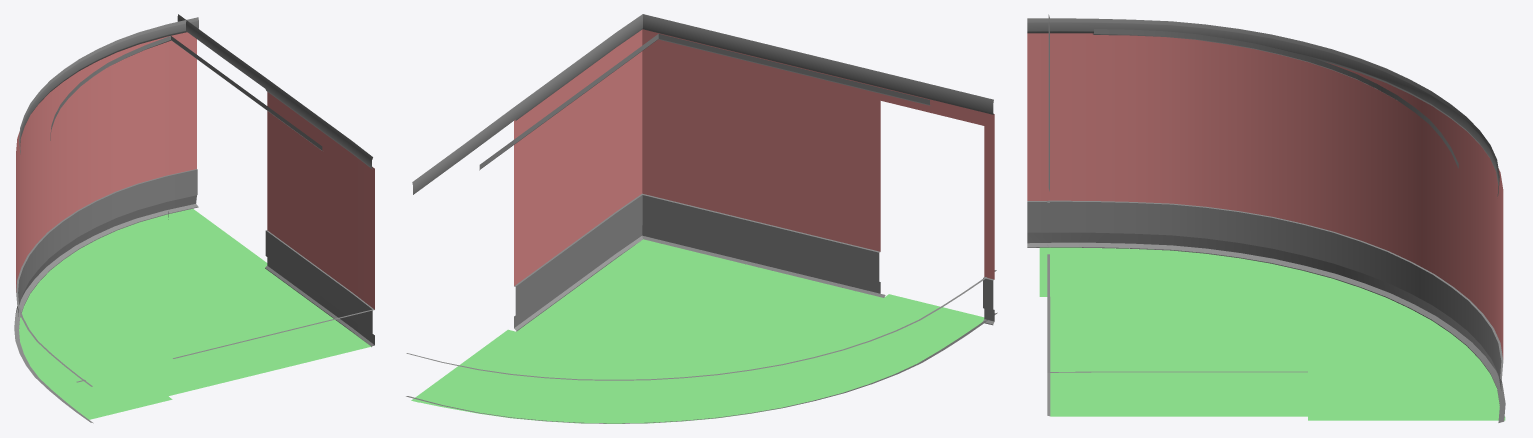
Rendered from S_Envi_Umeda_Indoor_002d.gltf.
The picture shows the model from 3 angles, left to right: view 1: azimuth 30°, elevation 25°; view 2: azimuth 150°, elevation 25°; view 3: azimuth 270°, elevation 25°; orthographic projection. The views are drawn at different scales.
Parts seen in each view (by area): view 1: S_Envi_Umeda_Indoor_002d; view 2: S_Envi_Umeda_Indoor_002d; view 3: S_Envi_Umeda_Indoor_002d.
Part boxes in pixels (box(x1,y1,x2,y2)): S_Envi_Umeda_Indoor_002d: box(14, 14, 374, 423); S_Envi_Umeda_Indoor_002d: box(406, 14, 997, 423); S_Envi_Umeda_Indoor_002d: box(1027, 14, 1505, 422).
Bounding box in the file's own units: 9.03 × 5.46 × 10.33.
